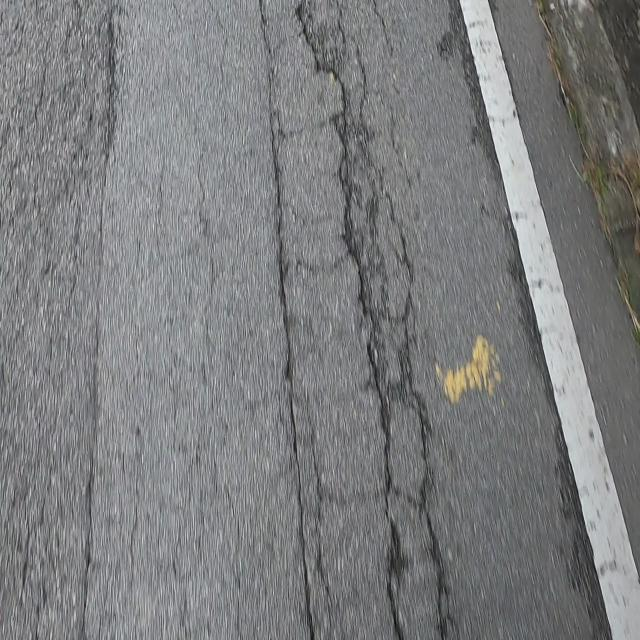Retak-Buaya: (262, 0, 441, 640), (0, 0, 114, 640)
